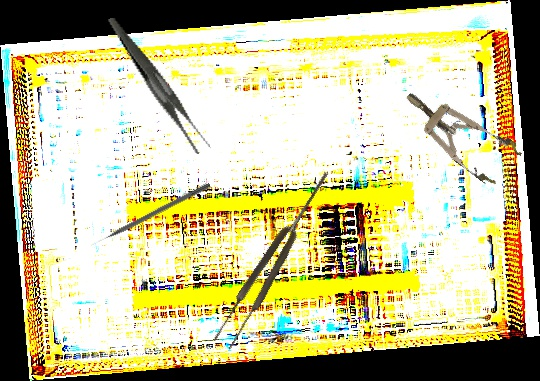Dressing Forceps: (107, 1, 212, 168)
Pusher: (88, 180, 212, 249)
Speculum: (393, 74, 525, 191)
Tissue Forceps: (210, 166, 339, 352)
